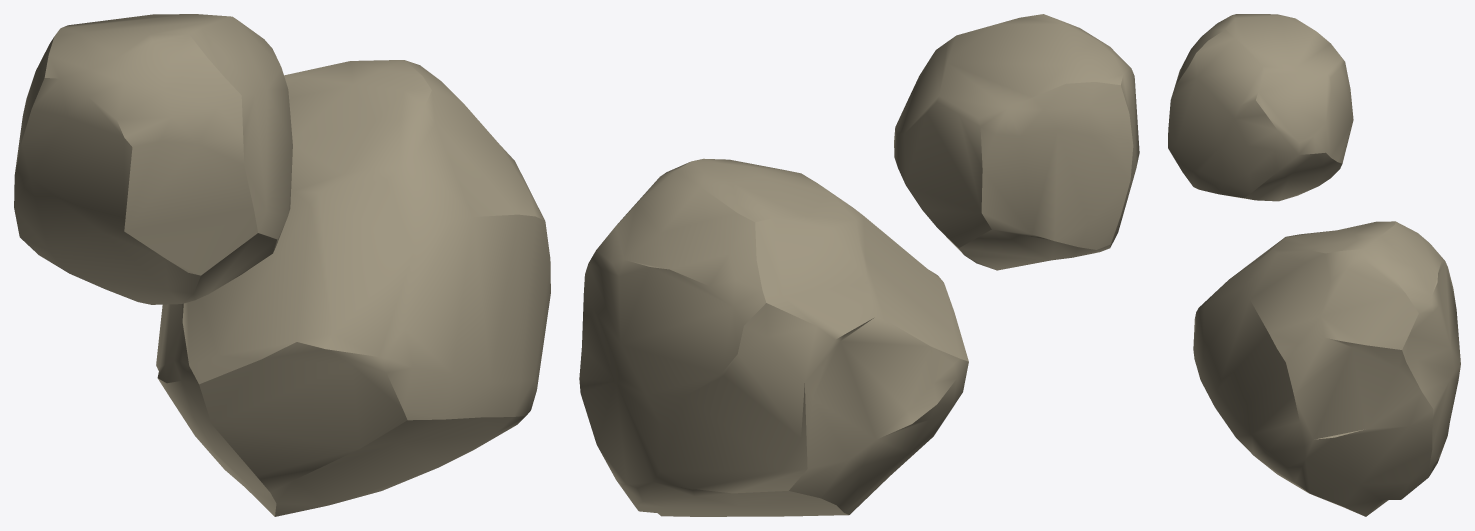
The model's file is Rocks.glb.
3 views of the same model, side by side, from view 1: azimuth 30°, elevation 25°; view 2: azimuth 150°, elevation 25°; view 3: azimuth 270°, elevation 25° (orthographic). The views are drawn at different scales.
Visible parts, largest first — view 1: UI_Rocks; view 2: UI_Rocks; view 3: UI_Rocks.
Part boxes in pixels (x1,y1,x2,y2): UI_Rocks: [14, 14, 550, 516]; UI_Rocks: [579, 14, 1139, 516]; UI_Rocks: [1168, 14, 1460, 516].
Bounding box in the file's own units: 0.4073 × 0.4131 × 0.2855.
Materials: 1 (1 with a texture image).
